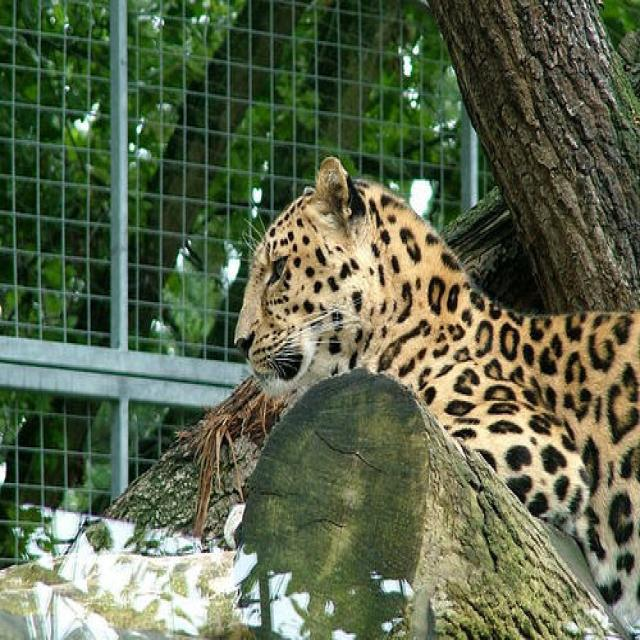Leopard: (230, 154, 636, 636)
